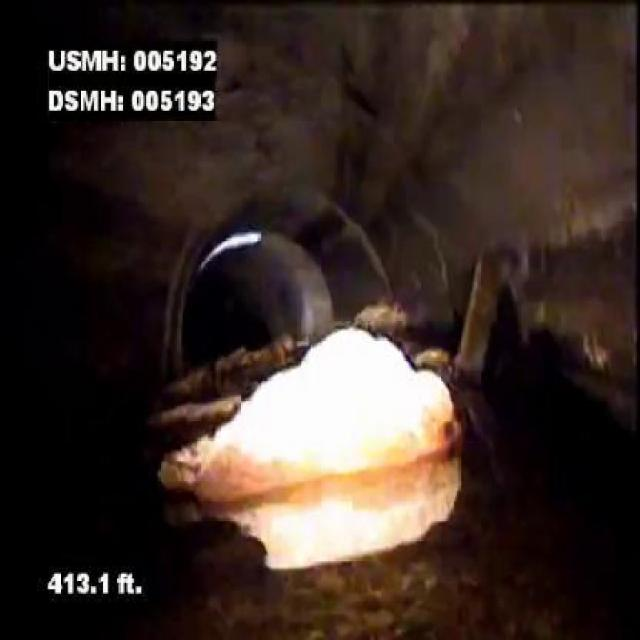Crack: (509, 271, 611, 372)
Obstacle: (156, 322, 462, 503)
